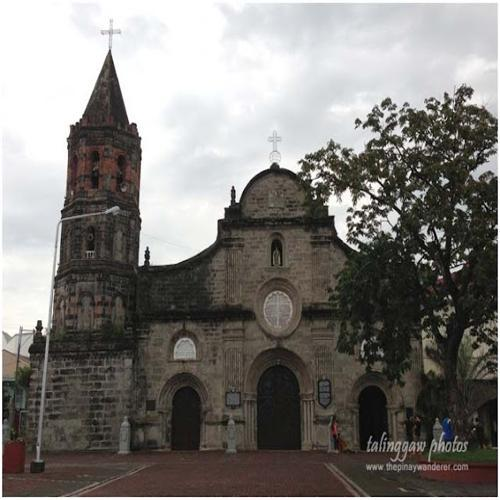Barasoain Church: (34, 16, 426, 464)
